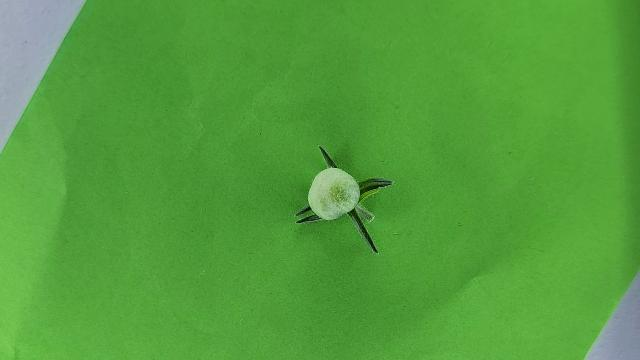Fruit Maturation: (307, 167, 361, 220)
